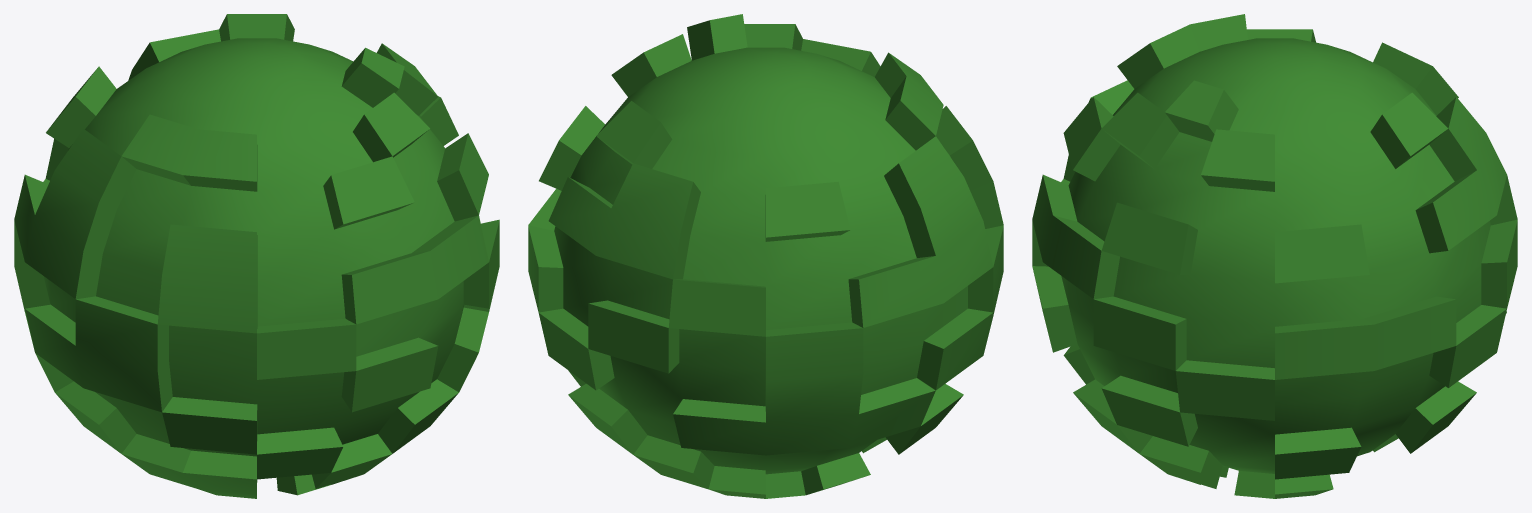
File: Bush2.fbx
3 renders of one model, left to right at view 1: azimuth 30°, elevation 25°; view 2: azimuth 150°, elevation 25°; view 3: azimuth 270°, elevation 25°, orthographic. The views are drawn at different scales.
Visible parts, largest first — view 1: pSphere2; view 2: pSphere2; view 3: pSphere2.
Boxes of the visible parts, x1,y1,x2,y2 form: pSphere2: (14,14,499,498); pSphere2: (528,14,1003,498); pSphere2: (1032,14,1517,498).
Bounding box in the file's own units: 2.21 × 2.13 × 2.22.
